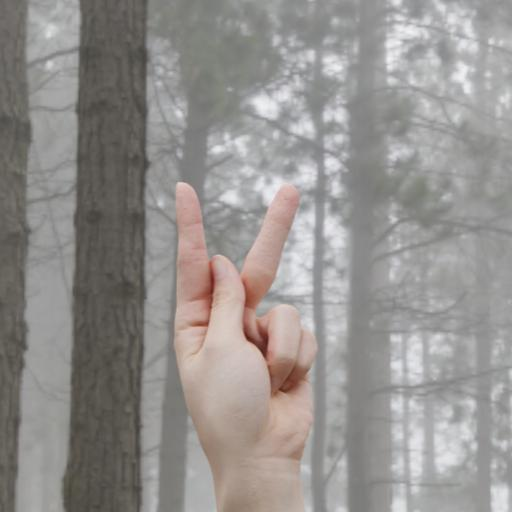K: (126, 152, 412, 474)
